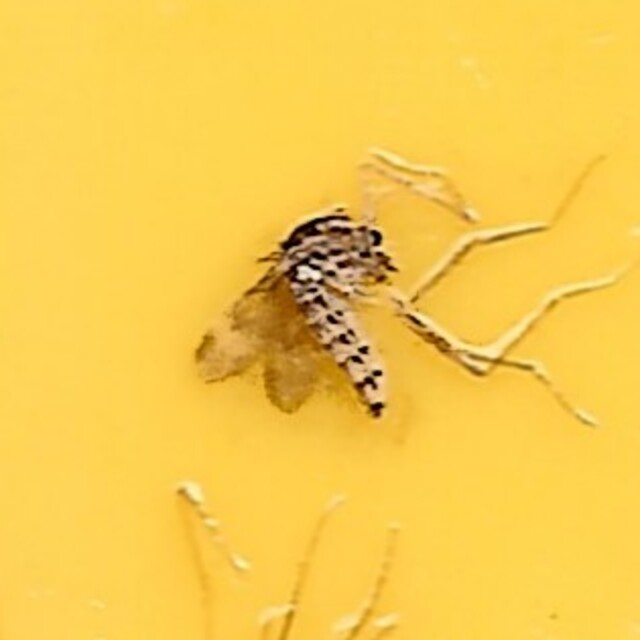Nematocera: (203, 200, 437, 440)
